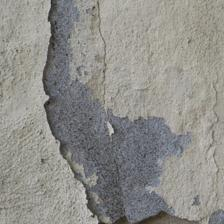Crack: (0, 0, 178, 74), (0, 30, 108, 83)
